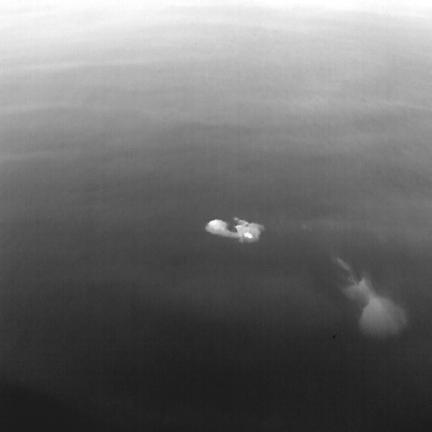flukeprints: (336, 258, 407, 338), (205, 218, 264, 242)
